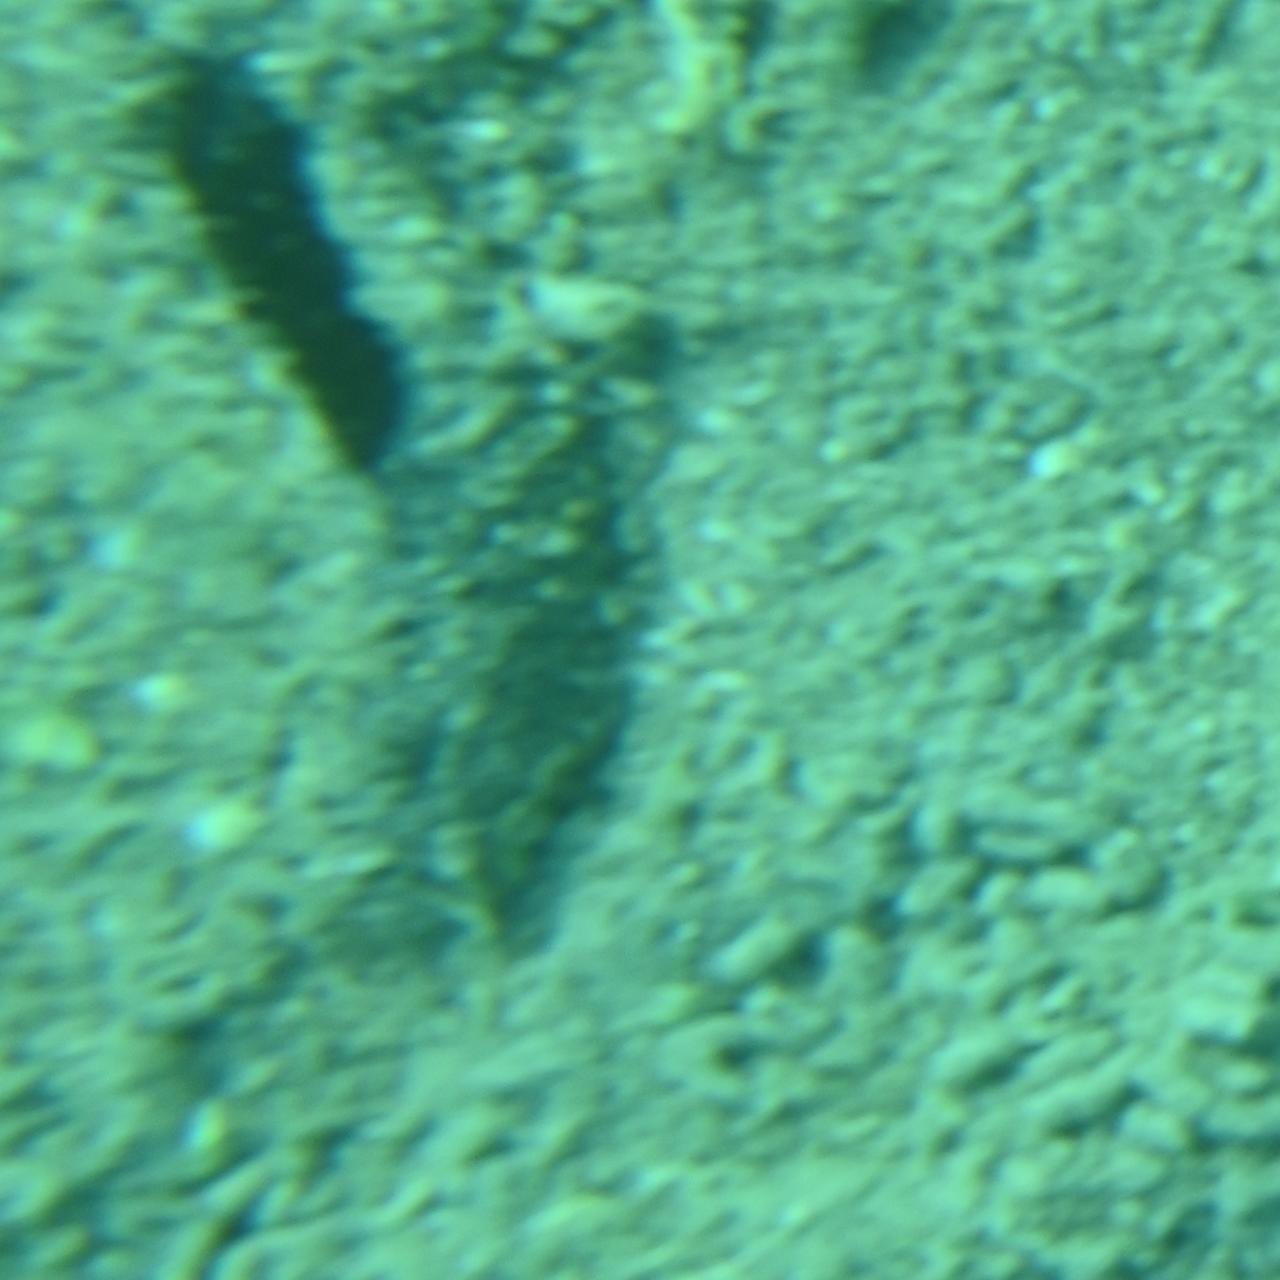Holothuria tubulosa: (286, 260, 697, 1020)
